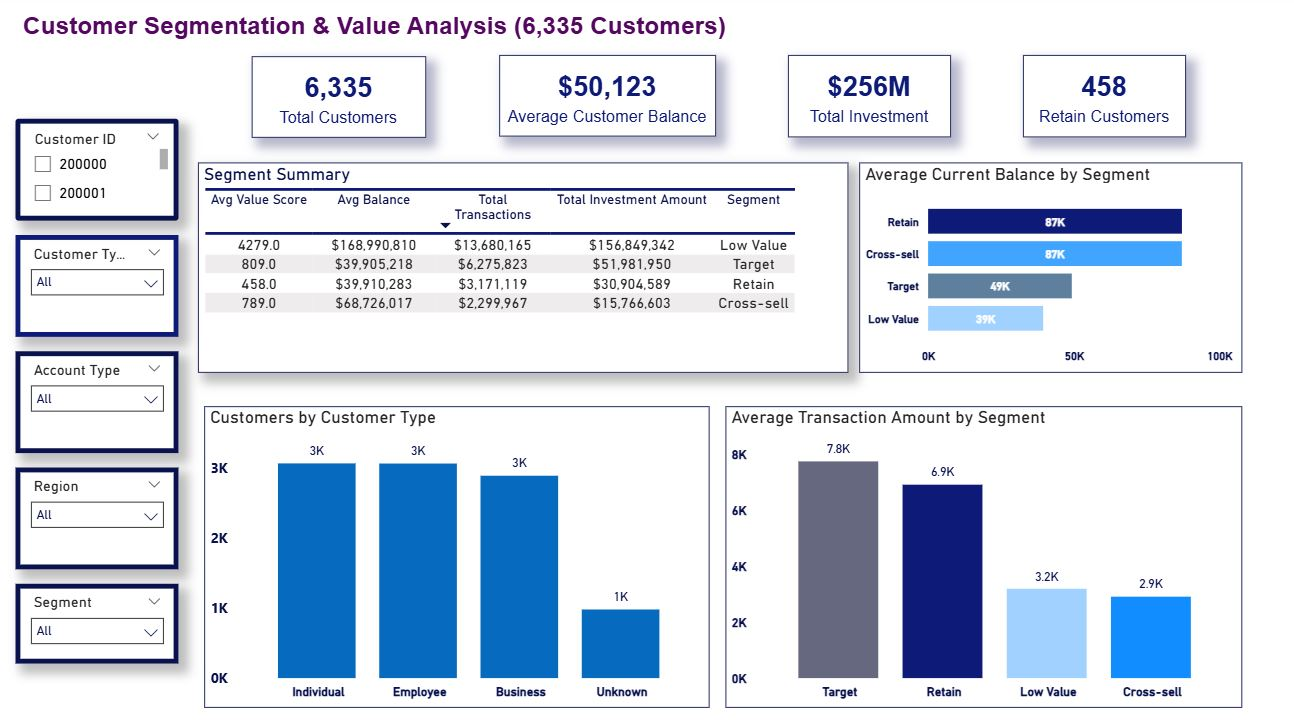

What the dashboard file says about the page in this screenshot:
{"tool":"powerbi","page":{"name":"Customer Analytics","canvas":[1280,720],"ordinal":1},"visuals":[{"type":"tableEx","title":"Segment Summary","fields":{"Values":["CountNonNull(bank_transaction customer_business_view.customer_value_score)","Sum(bank_transaction customer_business_view.current_balance)","Sum(bank_transaction customer_business_view.total_transaction_amount)","Sum(bank_transaction customer_business_view.total_investment_amount)","bank_transaction customer_business_view.Segment Name"]},"box":[196.2,165,638.8,206.2],"z":1000},{"type":"clusteredColumnChart","title":"Customers by Customer Type","fields":{"Y":["CountNonNull(bank_transaction vw_transaction_analysis.Customer_ID)"],"Category":["bank_transaction vw_transaction_analysis.Customer Type Clean"]},"box":[202.5,403.8,496.2,296.2],"z":2000},{"type":"clusteredBarChart","title":"Average Current Balance by Segment","fields":{"Y":["Avg(bank_transaction customer_business_view.current_balance)"],"Category":["bank_transaction customer_business_view.Segment Name"]},"box":[845,165,376.2,206.2],"z":3000},{"type":"clusteredColumnChart","title":"Average Transaction Amount by Segment","fields":{"Y":["Avg(bank_transaction customer_business_view.total_transaction_amount)"],"Category":["bank_transaction customer_business_view.Segment Name"]},"box":[713.8,403.8,507.5,296.2],"z":4000},{"type":"slicer","fields":{"Values":["bank_transaction customer_business_view.Region"]},"box":[17.8,463.8,160,100],"z":5000},{"type":"slicer","fields":{"Values":["bank_transaction vw_transaction_analysis.Account_Type"]},"box":[17.8,349.8,160,100],"z":6000},{"type":"slicer","fields":{"Values":["bank_transaction vw_transaction_analysis.Customer_Type"]},"box":[17.8,235.7,160,100],"z":7000},{"type":"slicer","fields":{"Values":["bank_transaction customer_business_view.segmentation"]},"box":[17.8,577.9,160,78.8],"z":8000},{"type":"textbox","box":[19.6,11.7,717.6,56.1],"z":9000},{"type":"card","fields":{"Values":["CountNonNull(bank_transaction customer_business_view.Customer_ID)"]},"box":[249.2,60,170.9,80],"z":10000},{"type":"card","fields":{"Values":["bank_transaction customer_business_view.Retain Customers"]},"box":[1006,58.7,160,80.9],"z":11000},{"type":"card","fields":{"Values":["Avg(bank_transaction customer_business_view.current_balance)"]},"box":[491.5,58.7,212.7,80],"z":12000},{"type":"card","fields":{"Values":["Sum(bank_transaction customer_business_view.total_investment_amount)"]},"box":[775.5,58.7,160,80.9],"z":13000},{"type":"slicer","fields":{"Values":["bank_transaction customer_business_view.Customer_ID"]},"box":[17.8,121.7,160,100],"z":14000}]}

Visuals, with their boxes in screenshot pixels (x1, y1, x2, y2), scaled from the page's 1280x720 canvas onto the 1294x720 screenshot:
"Segment Summary" tableEx: [left=198, top=165, right=844, bottom=371]
"Customers by Customer Type" clusteredColumnChart: [left=205, top=404, right=706, bottom=700]
"Average Current Balance by Segment" clusteredBarChart: [left=854, top=165, right=1235, bottom=371]
"Average Transaction Amount by Segment" clusteredColumnChart: [left=722, top=404, right=1235, bottom=700]
slicer - bank_transaction customer_business_view.Region: [left=18, top=464, right=180, bottom=564]
slicer - bank_transaction vw_transaction_analysis.Account_Type: [left=18, top=350, right=180, bottom=450]
slicer - bank_transaction vw_transaction_analysis.Customer_Type: [left=18, top=236, right=180, bottom=336]
slicer - bank_transaction customer_business_view.segmentation: [left=18, top=578, right=180, bottom=657]
textbox: [left=20, top=12, right=745, bottom=68]
card - CountNonNull(bank_transaction customer_business_view.Customer_ID): [left=252, top=60, right=425, bottom=140]
card - bank_transaction customer_business_view.Retain Customers: [left=1017, top=59, right=1179, bottom=140]
card - Avg(bank_transaction customer_business_view.current_balance): [left=497, top=59, right=712, bottom=139]
card - Sum(bank_transaction customer_business_view.total_investment_amount): [left=784, top=59, right=946, bottom=140]
slicer - bank_transaction customer_business_view.Customer_ID: [left=18, top=122, right=180, bottom=222]
